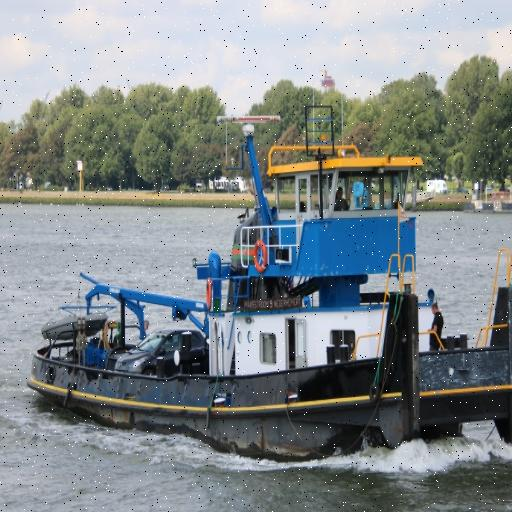tugboat: (22, 99, 512, 486)
